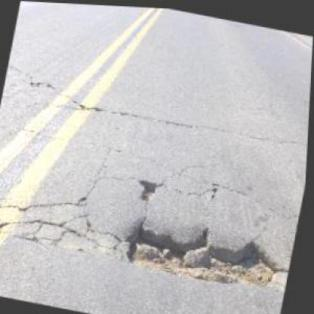Hueco: (120, 207, 292, 293), (136, 175, 162, 203)
